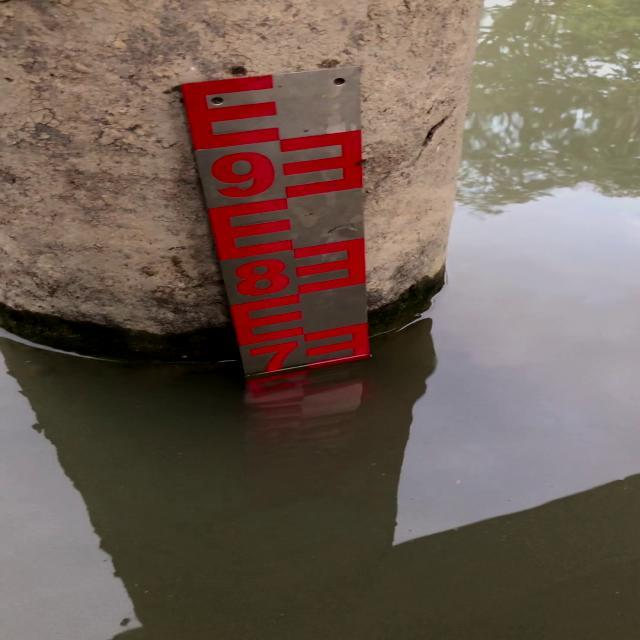ruler: (156, 65, 388, 395)
value: (192, 143, 288, 210), (219, 253, 299, 306), (240, 338, 308, 380)
